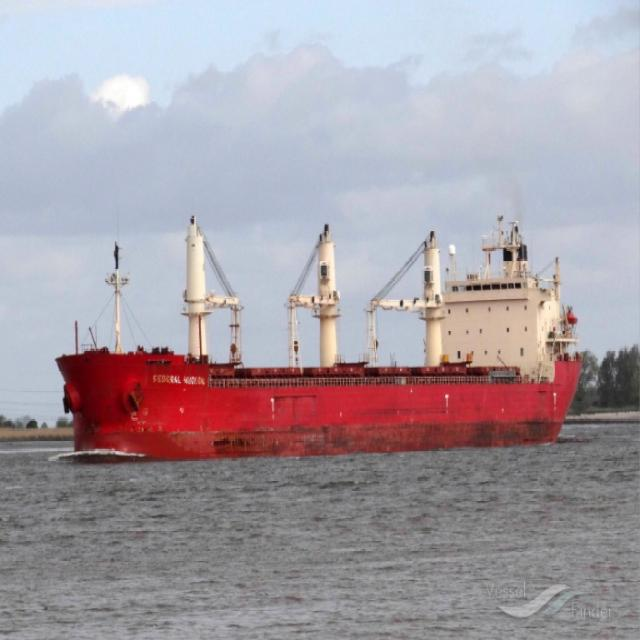OCR: (141, 366, 209, 388)
